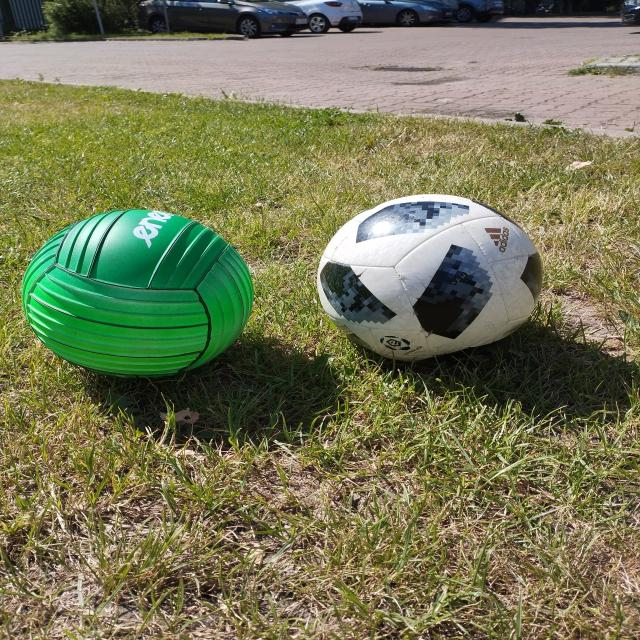nozna: (317, 194, 542, 361)
zielona: (21, 209, 254, 378)
